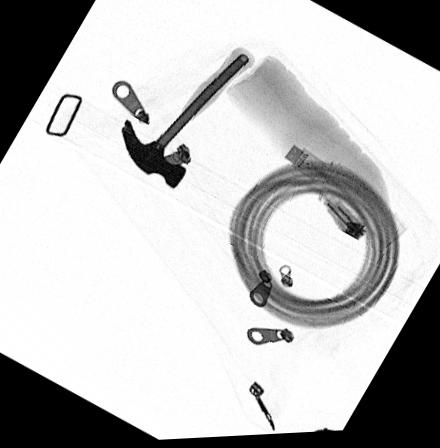Hammer: (120, 50, 256, 192)
